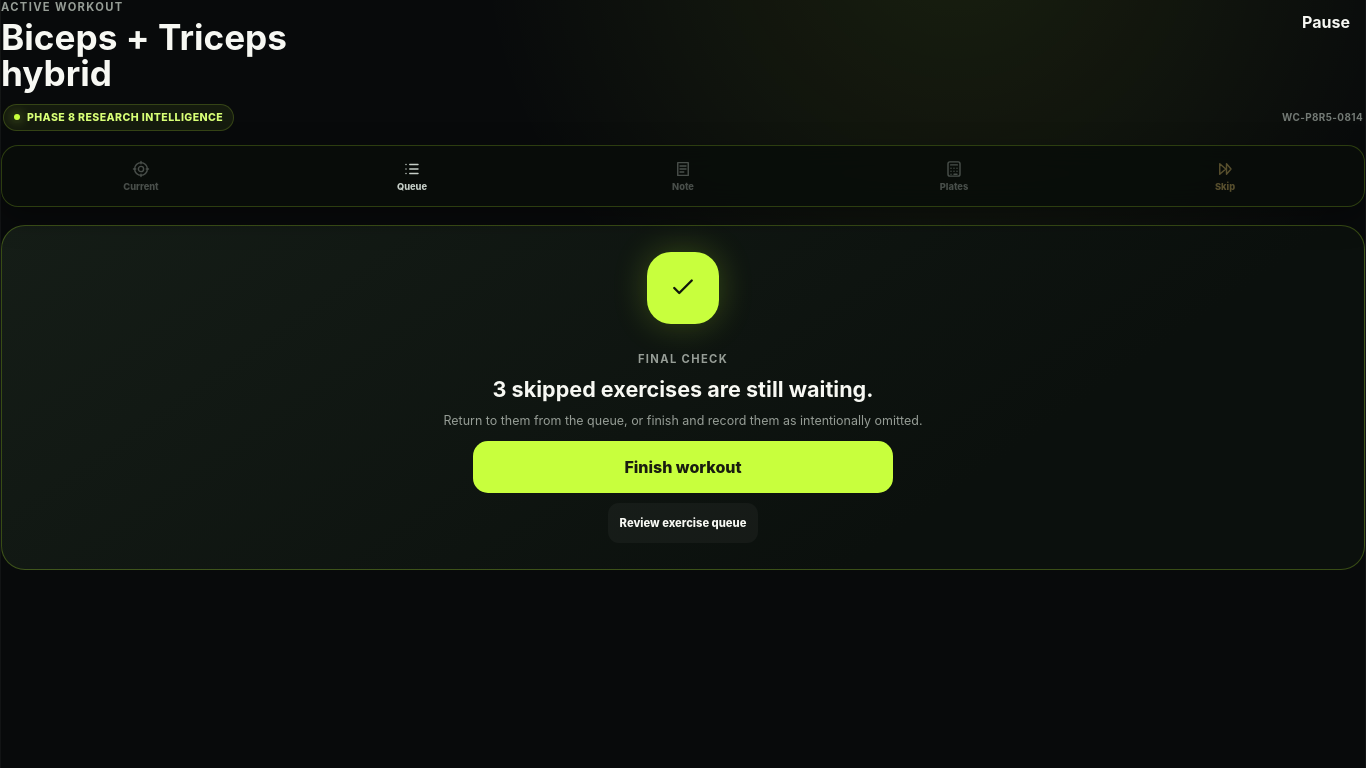
Test: Phase 8 active-workout navigation enhancement › lists unfinished exercises and records confirmed omissions before celebrating once
The width and height of the screenshot is (1366, 768).
Click the button "Finish workout".
click(683, 466)  # box [473,440,893,492]
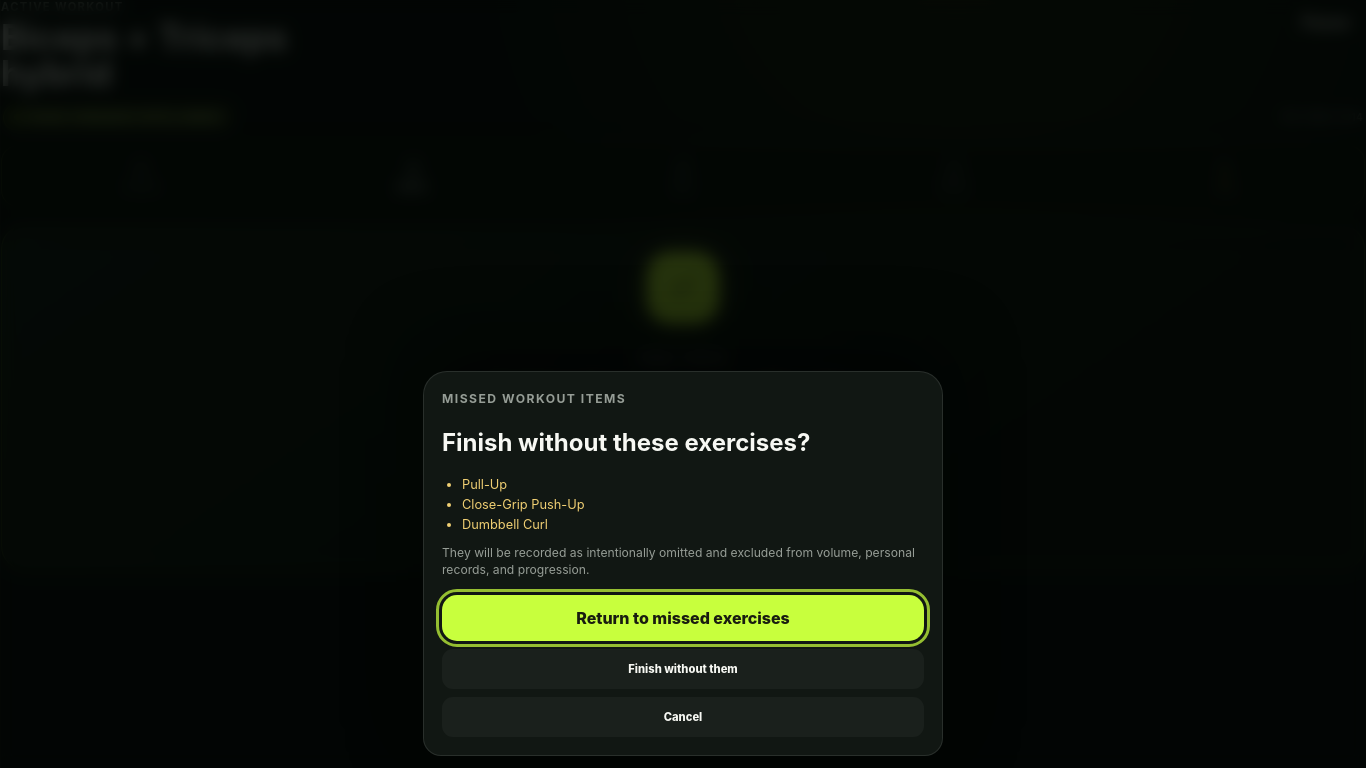
Click the button "Finish without them".
click(683, 669)  # box [442,649,924,689]
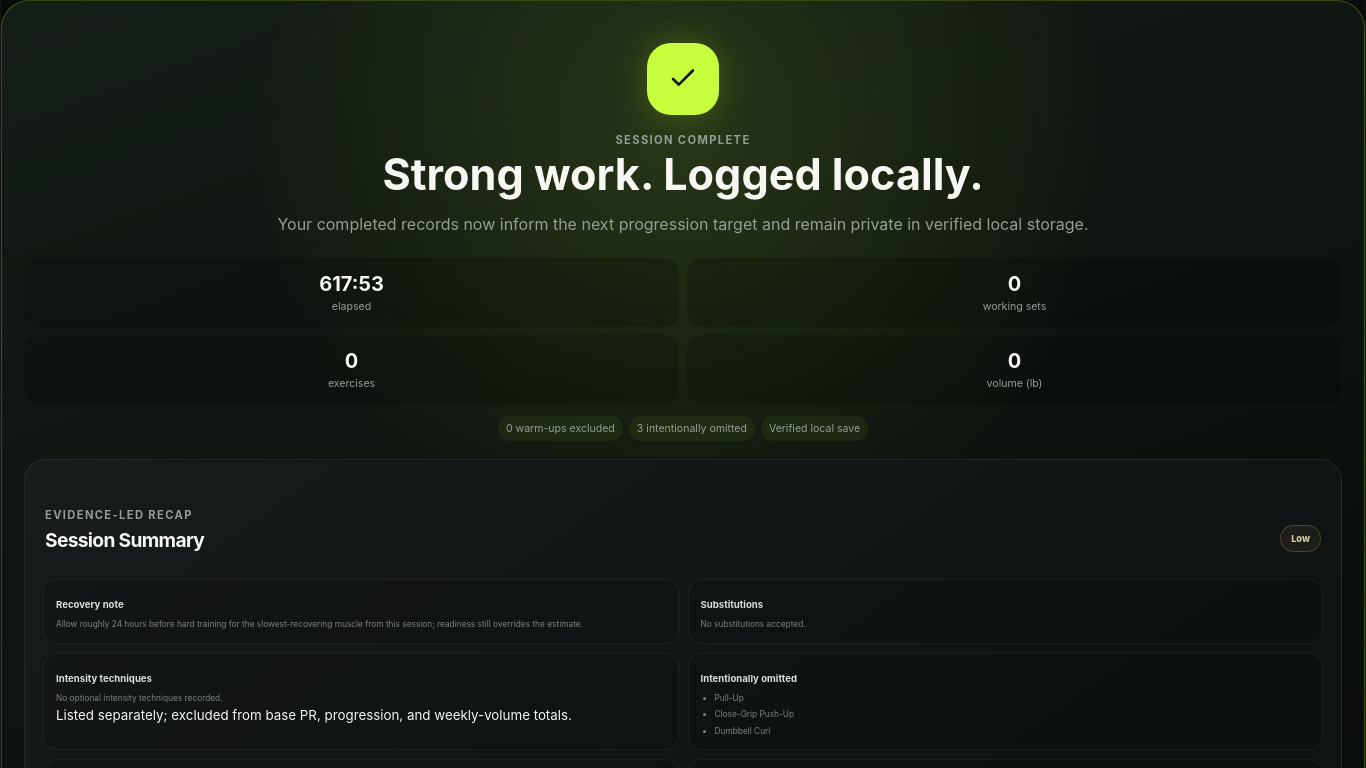
Check: the heading "Strong work. Logged locally." is shown, box [382,148,984,200]
Check: the text "3 intentionally omitted" is shown, box [629,416,755,441]
